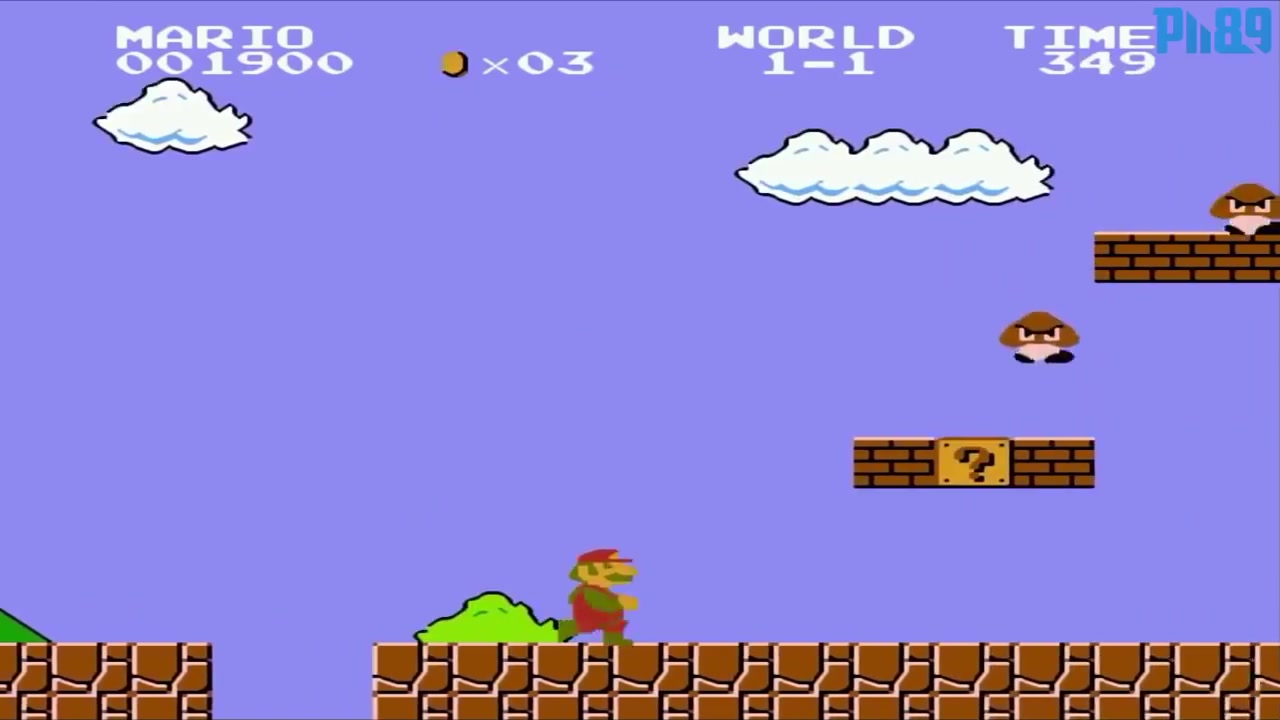mario: (543, 537, 640, 645)
